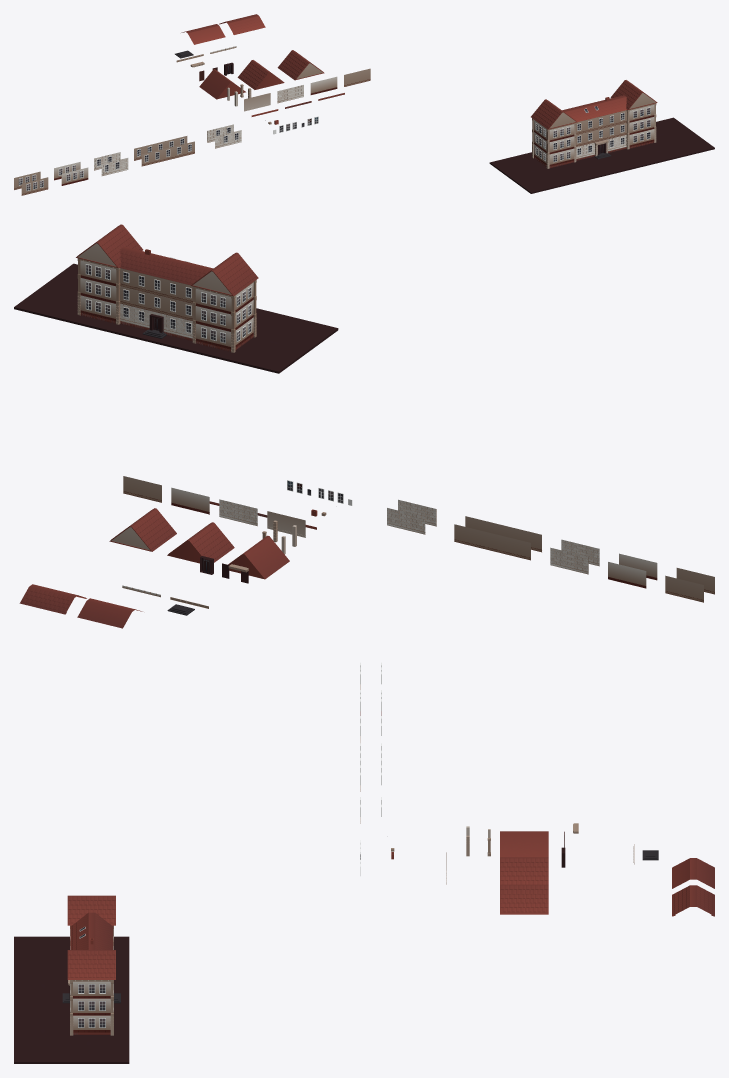
Rendered from ModularBuilding.fbx.
The picture shows the model from 3 angles, top to bottom: view 1: azimuth 30°, elevation 25°; view 2: azimuth 150°, elevation 25°; view 3: azimuth 270°, elevation 25°; orthographic projection. The views are drawn at different scales.
Visible parts, largest first — view 1: Surface, Roof_B, Roof_A, Roof_B.001, Roof, Roof_B.002, LongRoof_A, LongRoof, LongRoof_A.001, LongRoof_A.002, LargeWall_8x0x3.5_B, LargeWall_8x0x3.5_A (+4 smaller); view 2: Surface, Roof_B.001, Roof_B, Roof_A, Roof, P_LongWalls_8x0x3.5(C)WithWindows(A) |LargeWall_8x0x3.5_C.00 (×2), Roof_B.002, LongRoof_A, LongRoof, LongRoof_A.002, LongRoof_A.001, P_LargeWall(A)WithWindows(A)left_8x0x3.5_A |LargeWall_8x0x3. (+7 smaller); view 3: Surface, Roof_B, Roof_B.002, Roof_A, Roof, Roof_B.001, LongRoof_A, LongRoof, LongRoof_A.002.
Boxes of the visible parts, <box> form: Surface: <box>489,117,714,193</box>; Roof_B: <box>277,50,324,80</box>; Roof_A: <box>237,60,284,89</box>; Roof_B.001: <box>531,99,577,129</box>; Roof: <box>199,69,245,99</box>; Roof_B.002: <box>610,80,657,109</box>; LongRoof_A: <box>219,14,265,34</box>; LongRoof: <box>181,24,225,44</box>; LongRoof_A.001: <box>593,95,626,115</box>; LongRoof_A.002: <box>562,103,601,121</box>; LargeWall_8x0x3.5_B: <box>310,76,337,94</box>; LargeWall_8x0x3.5_A: <box>277,85,303,103</box>; Surface: <box>14,263,338,373</box>; Roof_B.001: <box>191,252,258,296</box>; Roof_B: <box>109,508,176,551</box>; Roof_A: <box>167,522,234,563</box>; Roof: <box>228,535,289,579</box>; P_LongWalls_8x0x3.5(C)WithWindows(A) |LargeWall_8x0x3.5_C.00 (×2): <box>454,524,530,560</box>; Roof_B.002: <box>76,224,143,267</box>; LongRoof_A: <box>19,584,86,614</box>; LongRoof: <box>77,598,142,628</box>; LongRoof_A.002: <box>156,257,213,285</box>; LongRoof_A.001: <box>119,246,168,276</box>; P_LargeWall(A)WithWindows(A)left_8x0x3.5_A |LargeWall_8x0x3.: <box>550,547,588,574</box>; Surface: <box>14,936,129,1063</box>; Roof_B: <box>500,884,548,914</box>; Roof_B.002: <box>67,950,115,979</box>; Roof_A: <box>500,857,548,884</box>; Roof: <box>500,831,548,857</box>; Roof_B.001: <box>67,895,115,925</box>; LongRoof_A: <box>672,885,714,916</box>; LongRoof: <box>672,858,714,888</box>; LongRoof_A.002: <box>70,912,113,943</box>.
Bounding box in the file's own units: 17089 × 1600 × 13052.
